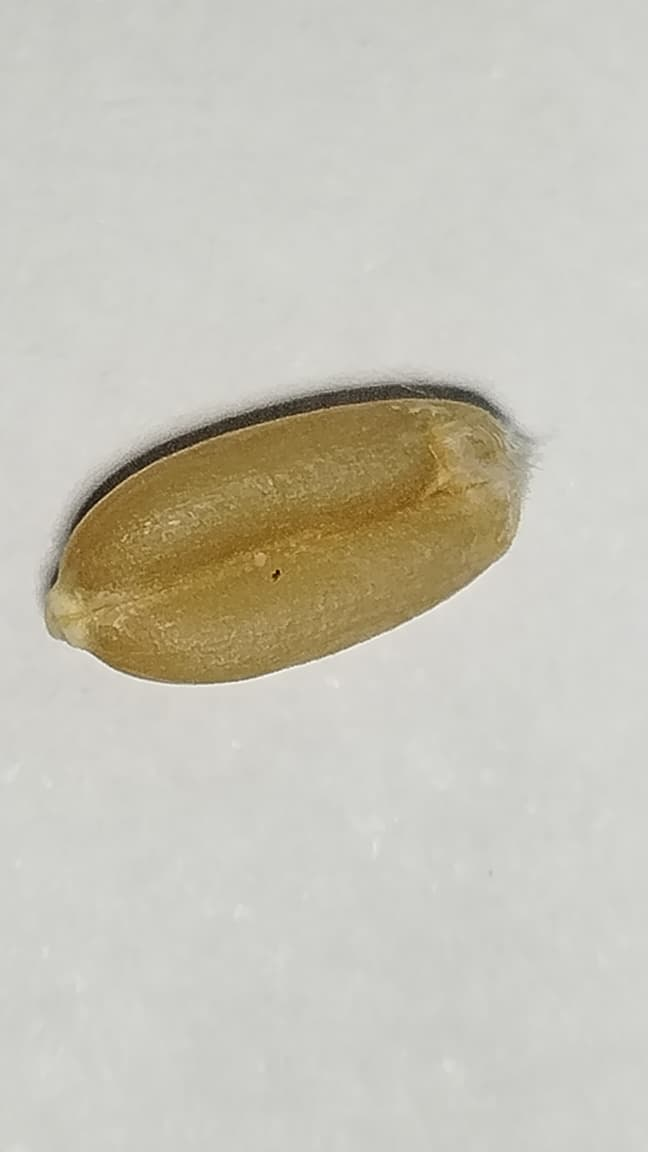healthy: (46, 396, 534, 683)
